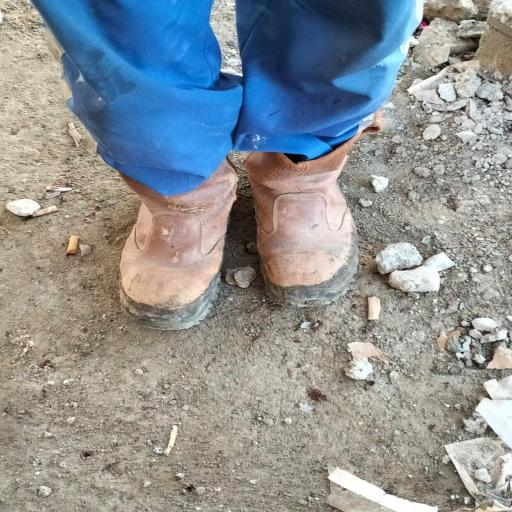safety_shoe: (96, 159, 239, 336), (237, 137, 369, 306)
